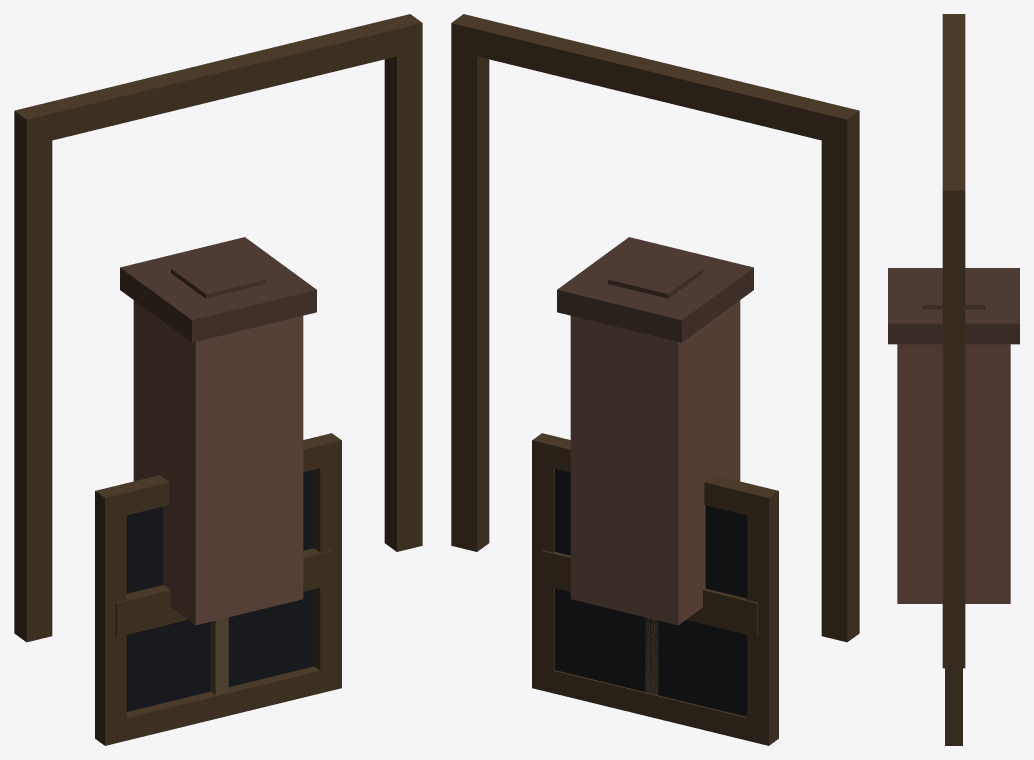
Rendered from building_kit.glb.
3 views of the same model, side by side, from view 1: azimuth 30°, elevation 25°; view 2: azimuth 150°, elevation 25°; view 3: azimuth 270°, elevation 25° (orthographic). The views are drawn at different scales.
Parts seen in each view (by area): view 1: chimney, door_frame, window_frame, fascia_strip; view 2: chimney, door_frame, window_frame, fascia_strip; view 3: chimney, door_frame, window_frame.
Part boxes in pixels (left/top/right/bottom): chimney: left=120, top=237, right=316, bottom=625; door_frame: left=14, top=14, right=422, bottom=642; window_frame: left=95, top=433, right=341, bottom=745; fascia_strip: left=115, top=548, right=332, bottom=636; chimney: left=557, top=237, right=753, bottom=625; door_frame: left=451, top=14, right=859, bottom=642; window_frame: left=532, top=433, right=778, bottom=745; fascia_strip: left=541, top=550, right=758, bottom=636; chimney: left=888, top=268, right=1019, bottom=603; door_frame: left=942, top=14, right=965, bottom=668; window_frame: left=945, top=668, right=962, bottom=745.
Bounding box in the file's own units: 1.84 × 2.87 × 0.58.
